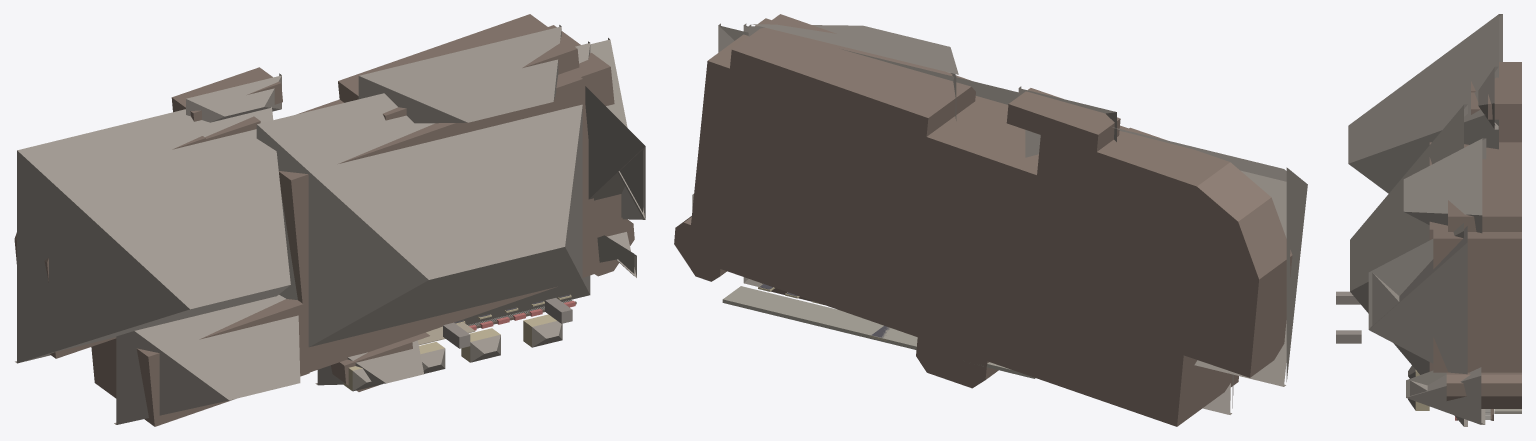
File: hofgut_hybrid.glb
3 renders of one model, left to right at view 1: azimuth 30°, elevation 25°; view 2: azimuth 150°, elevation 25°; view 3: azimuth 270°, elevation 25°, orthographic. The views are drawn at different scales.
Parts seen in each view (by area): view 1: daecher, waende, gauben_dach, fensterrahmen, kamine; view 2: waende, daecher, eg_stein; view 3: daecher, waende, kamine.
Part boxes in pixels (bbox=[...]): daecher: bbox=[15, 25, 645, 424]; waende: bbox=[14, 14, 634, 426]; gauben_dach: bbox=[352, 321, 562, 391]; fensterrahmen: bbox=[343, 294, 571, 390]; kamine: bbox=[443, 298, 572, 348]; waende: bbox=[674, 14, 1292, 426]; daecher: bbox=[692, 23, 1307, 414]; eg_stein: bbox=[722, 286, 1035, 378]; daecher: bbox=[1348, 14, 1502, 426]; waende: bbox=[1429, 62, 1521, 408]; kamine: bbox=[1336, 291, 1361, 343].
Size of the model in its own units: 53.75 by 25.67 by 18.86.
